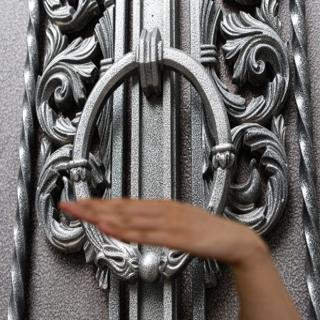WAIT: (53, 185, 258, 266)
